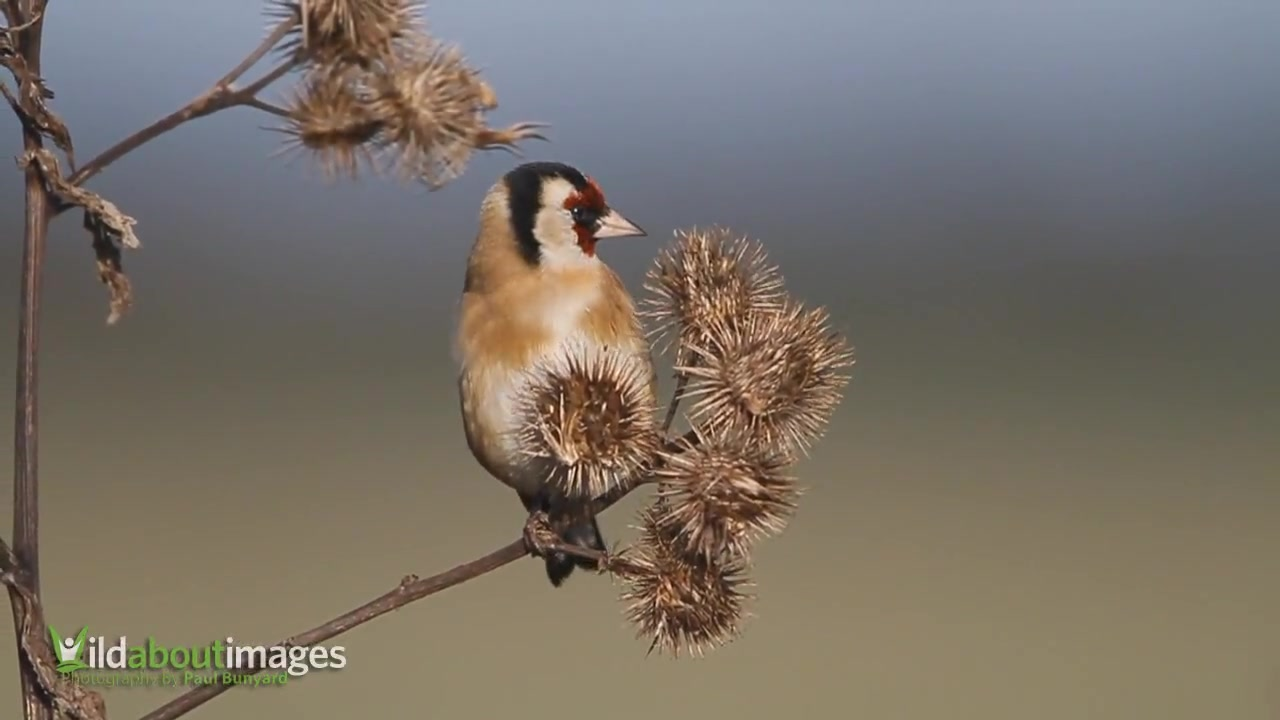bird: (455, 160, 657, 588)
